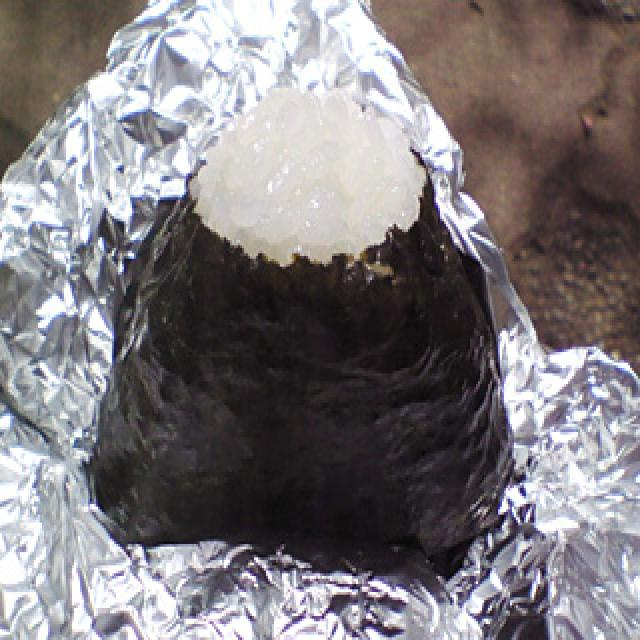米饭主食: (76, 70, 516, 566)
